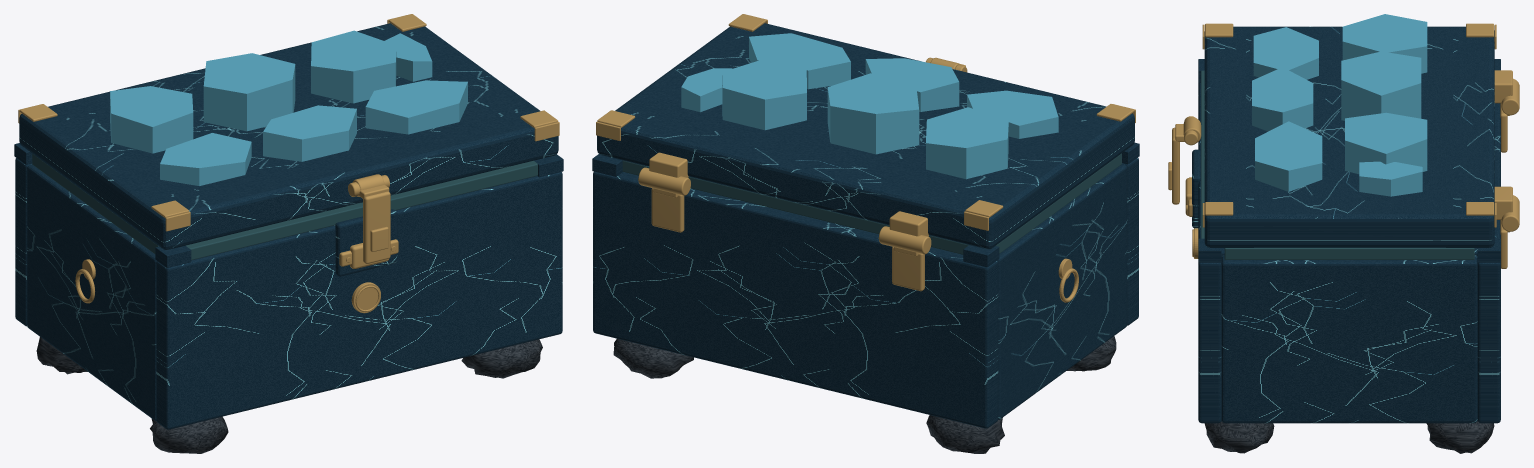
Rendered from russia.glb.
3 renders of one model, left to right at view 1: azimuth 30°, elevation 25°; view 2: azimuth 150°, elevation 25°; view 3: azimuth 270°, elevation 25°, orthographic.
Visible parts, largest first — view 1: Baikal / mineral wall, Lid / polished slab, Baikal / mineral side, Ice slab / 4, Mineral seam / long, Ice slab / 5, Ice slab / 3, Ice slab / 2, Ice slab / 1, Ice slab / 0, Granite foot, Granite foot.002 (+8 smaller); view 2: Baikal / mineral wall.001, Lid / polished slab, Baikal / mineral side, Ice slab / 4, Ice slab / 5, Ice slab / 3, Ice slab / 2, Ice slab / 0, Ice slab / 1, Mineral seam / long.001, Granite foot.001, Baikal / mineral wall (+12 smaller); view 3: Baikal / mineral side.001, Lid / polished slab, Ice slab / 4, Baikal / mineral wall.001, Baikal / mineral wall, Ice slab / 5, Ice slab / 2, Ice slab / 3, Ice slab / 1, Mineral seam / side.001, Ice slab / 0, Ice slab / 6 (+15 smaller).
Boxes of the visible parts, bbox=[...] form: Baikal / mineral wall: bbox=[156, 172, 562, 429]; Lid / polished slab: bbox=[19, 23, 558, 249]; Baikal / mineral side: bbox=[27, 164, 156, 420]; Ice slab / 4: bbox=[203, 53, 295, 131]; Mineral seam / long: bbox=[186, 160, 537, 260]; Ice slab / 5: bbox=[311, 30, 396, 103]; Ice slab / 3: bbox=[110, 86, 193, 153]; Ice slab / 2: bbox=[365, 80, 467, 134]; Ice slab / 1: bbox=[263, 105, 356, 161]; Ice slab / 0: bbox=[160, 133, 251, 185]; Granite foot: bbox=[150, 416, 228, 453]; Granite foot.002: bbox=[461, 339, 542, 378]; Baikal / mineral wall.001: bbox=[593, 171, 998, 428]; Lid / polished slab: bbox=[597, 23, 1134, 249]; Baikal / mineral side: bbox=[997, 164, 1127, 419]; Ice slab / 4: bbox=[827, 73, 919, 154]; Ice slab / 5: bbox=[722, 59, 806, 130]; Ice slab / 3: bbox=[926, 107, 1008, 179]; Ice slab / 2: bbox=[749, 33, 850, 89]; Ice slab / 0: bbox=[967, 90, 1058, 138]; Ice slab / 1: bbox=[865, 58, 959, 111]; Mineral seam / long.001: bbox=[622, 160, 968, 254]; Granite foot.001: bbox=[926, 415, 1004, 453]; Baikal / mineral wall: bbox=[1122, 157, 1138, 325]; Baikal / mineral side.001: bbox=[1221, 255, 1477, 423]; Lid / polished slab: bbox=[1204, 26, 1494, 247]; Ice slab / 4: bbox=[1341, 51, 1421, 120]; Baikal / mineral wall.001: bbox=[1477, 103, 1500, 423]; Baikal / mineral wall: bbox=[1198, 82, 1221, 423]; Ice slab / 5: bbox=[1345, 112, 1427, 174]; Ice slab / 2: bbox=[1255, 121, 1322, 191]; Ice slab / 3: bbox=[1342, 14, 1427, 73]; Ice slab / 1: bbox=[1252, 67, 1313, 131]; Mineral seam / side.001: bbox=[1224, 248, 1474, 259]; Ice slab / 0: bbox=[1253, 27, 1318, 79]; Ice slab / 6: bbox=[1359, 161, 1422, 196].
Size of the model in its own units: 3.79 by 2.65 by 2.88.
Materials: 5 (2 with a texture image).
